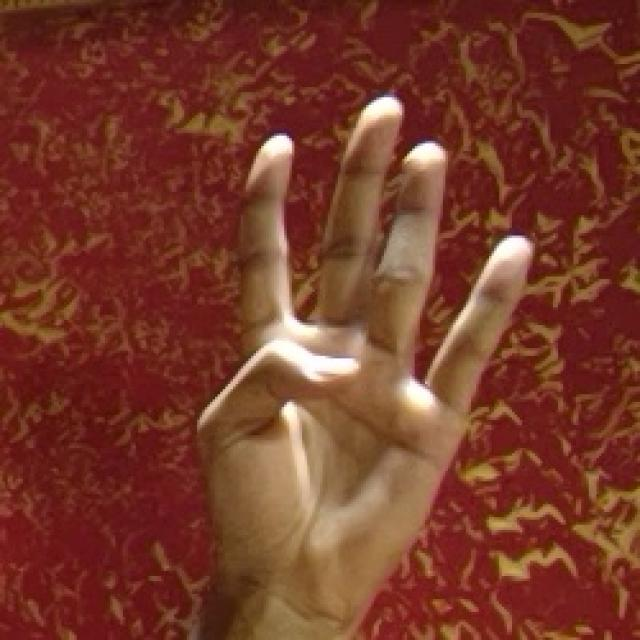Numeric-4: (211, 95, 534, 584)
